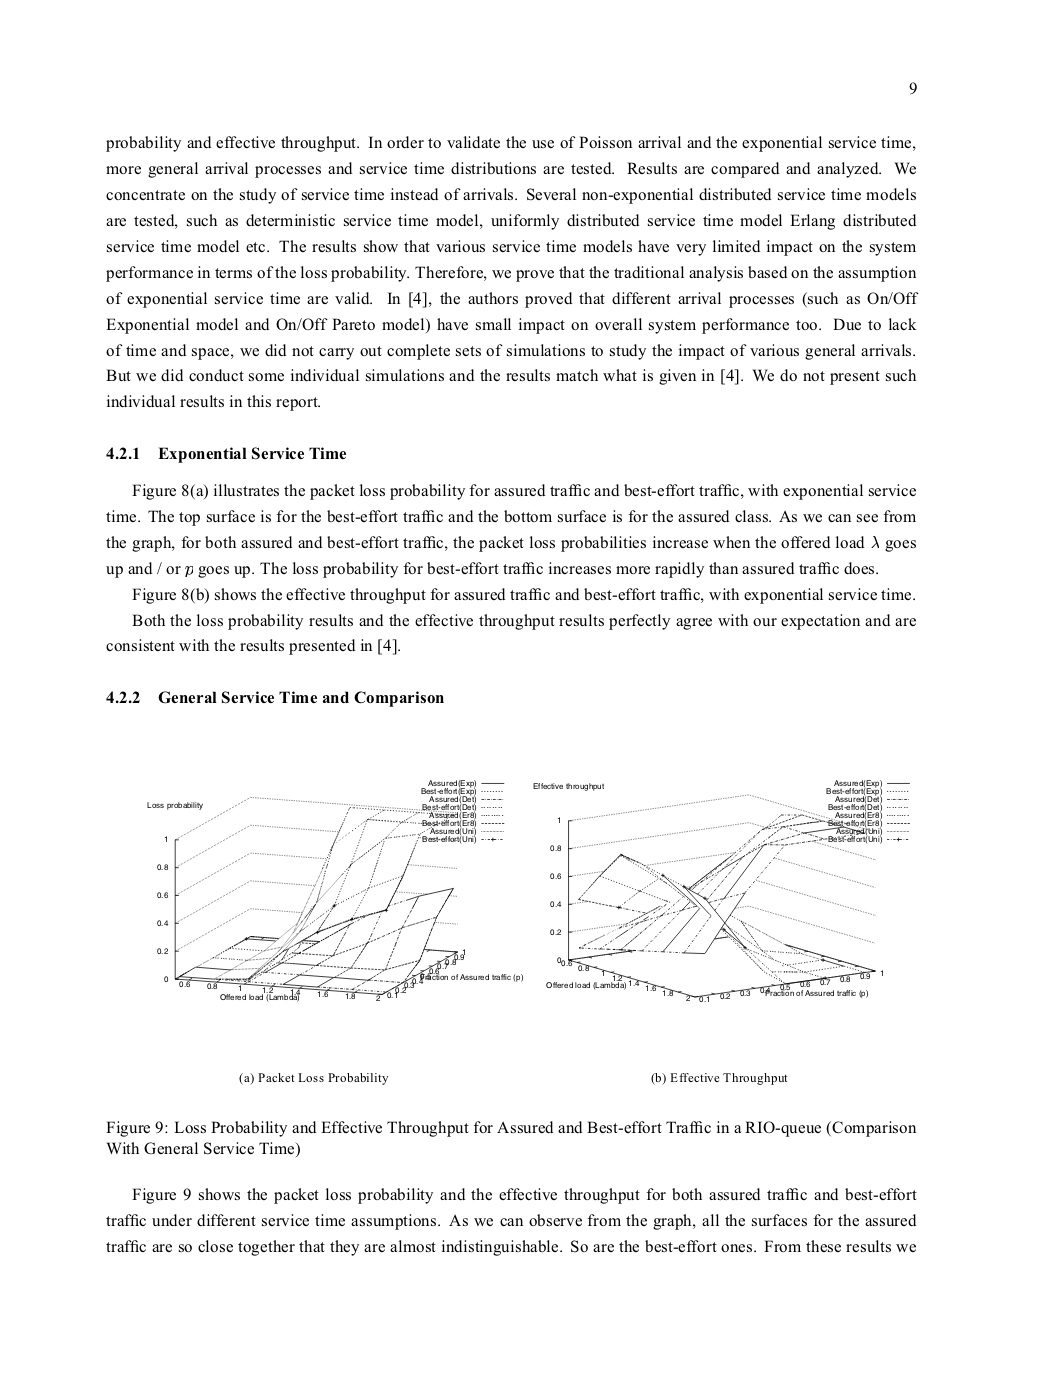figure: (533, 779, 909, 1003), (147, 779, 522, 1002)
